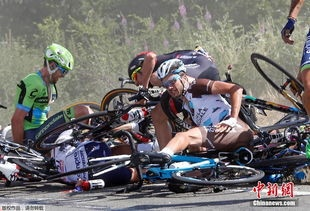falling: (3, 37, 78, 155)
